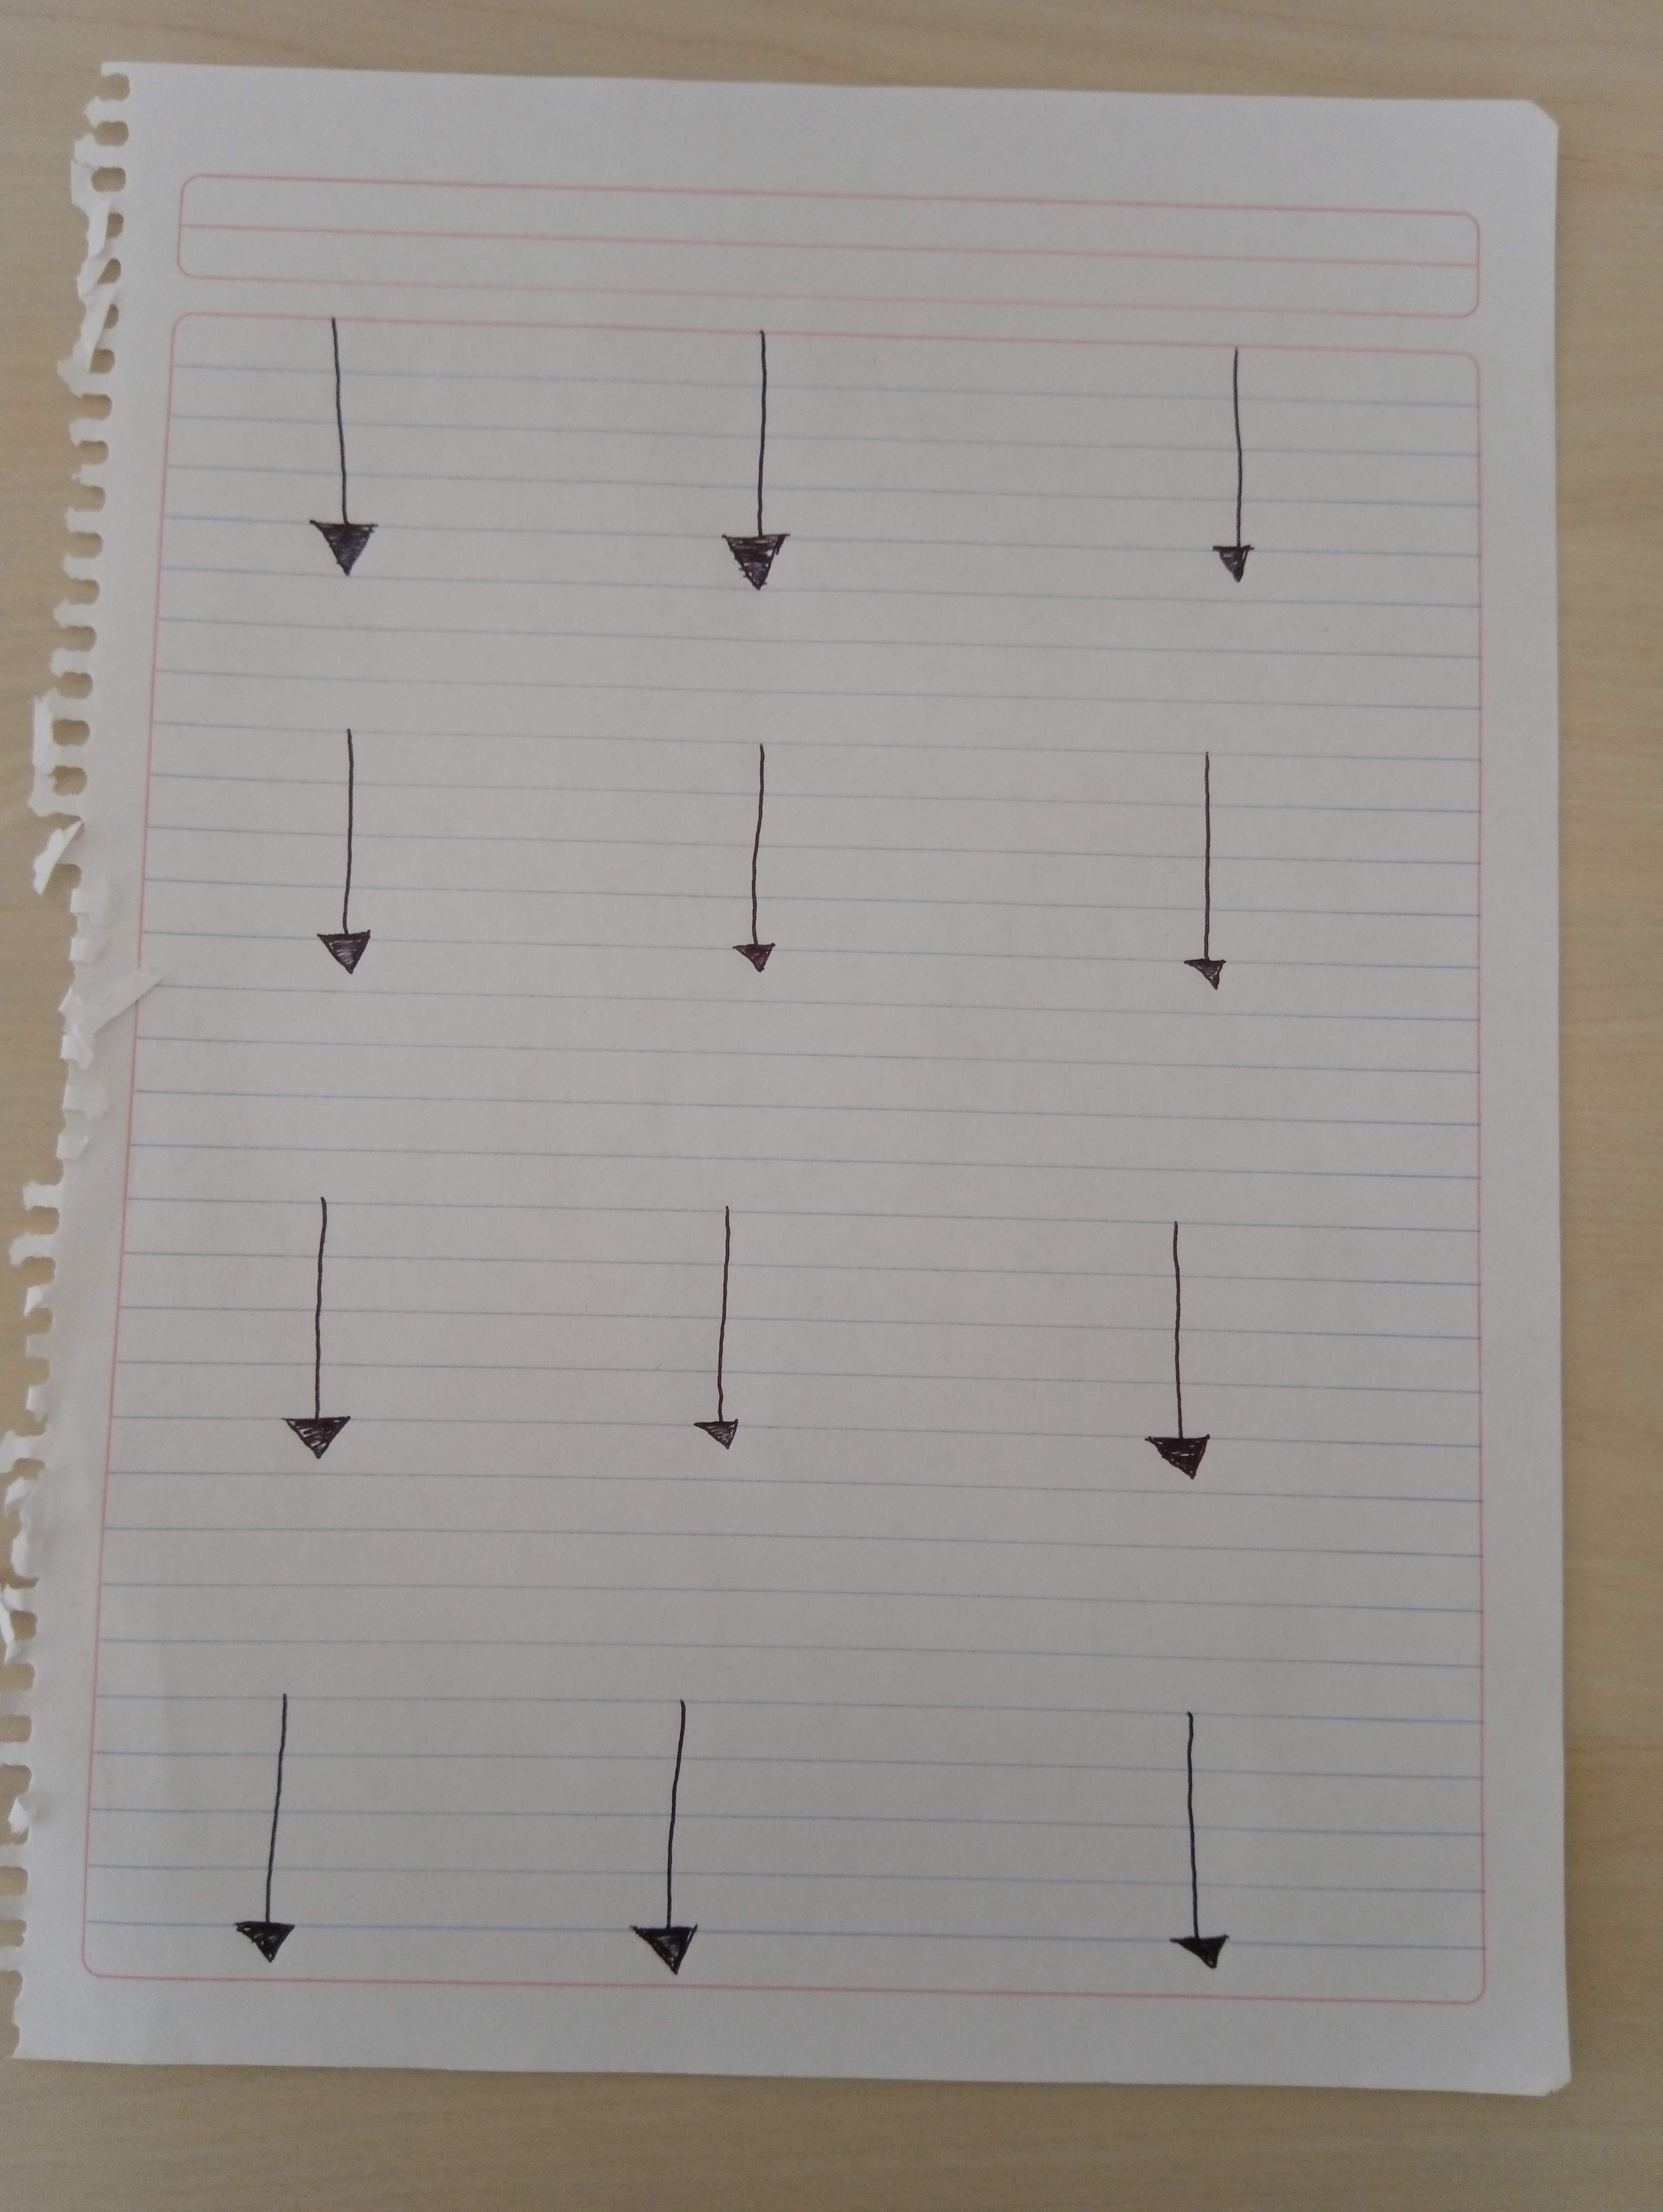arrow_line_down: (276, 321, 397, 613), (1151, 1716, 1256, 2018), (1125, 1220, 1225, 1519), (229, 1678, 328, 1976), (1167, 751, 1265, 1046), (632, 1685, 730, 1976), (276, 1192, 372, 1480), (667, 1198, 756, 1493), (714, 737, 814, 995), (1191, 337, 1277, 611), (306, 725, 397, 976), (718, 318, 788, 597)
